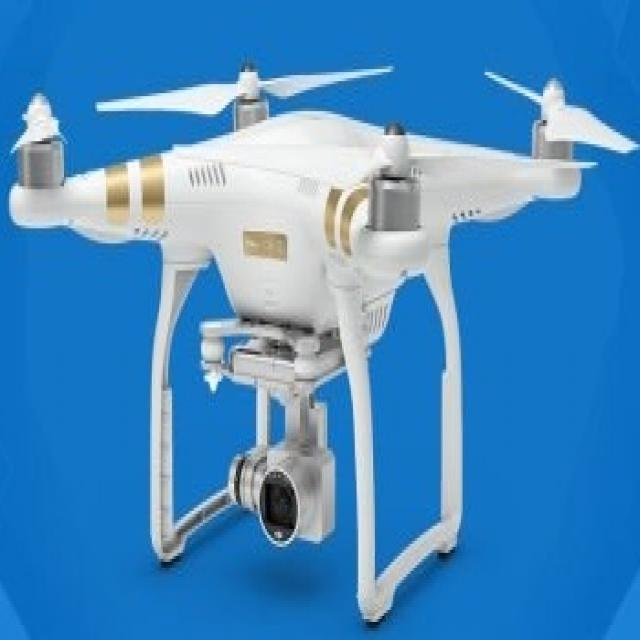drone: (0, 27, 640, 622)
